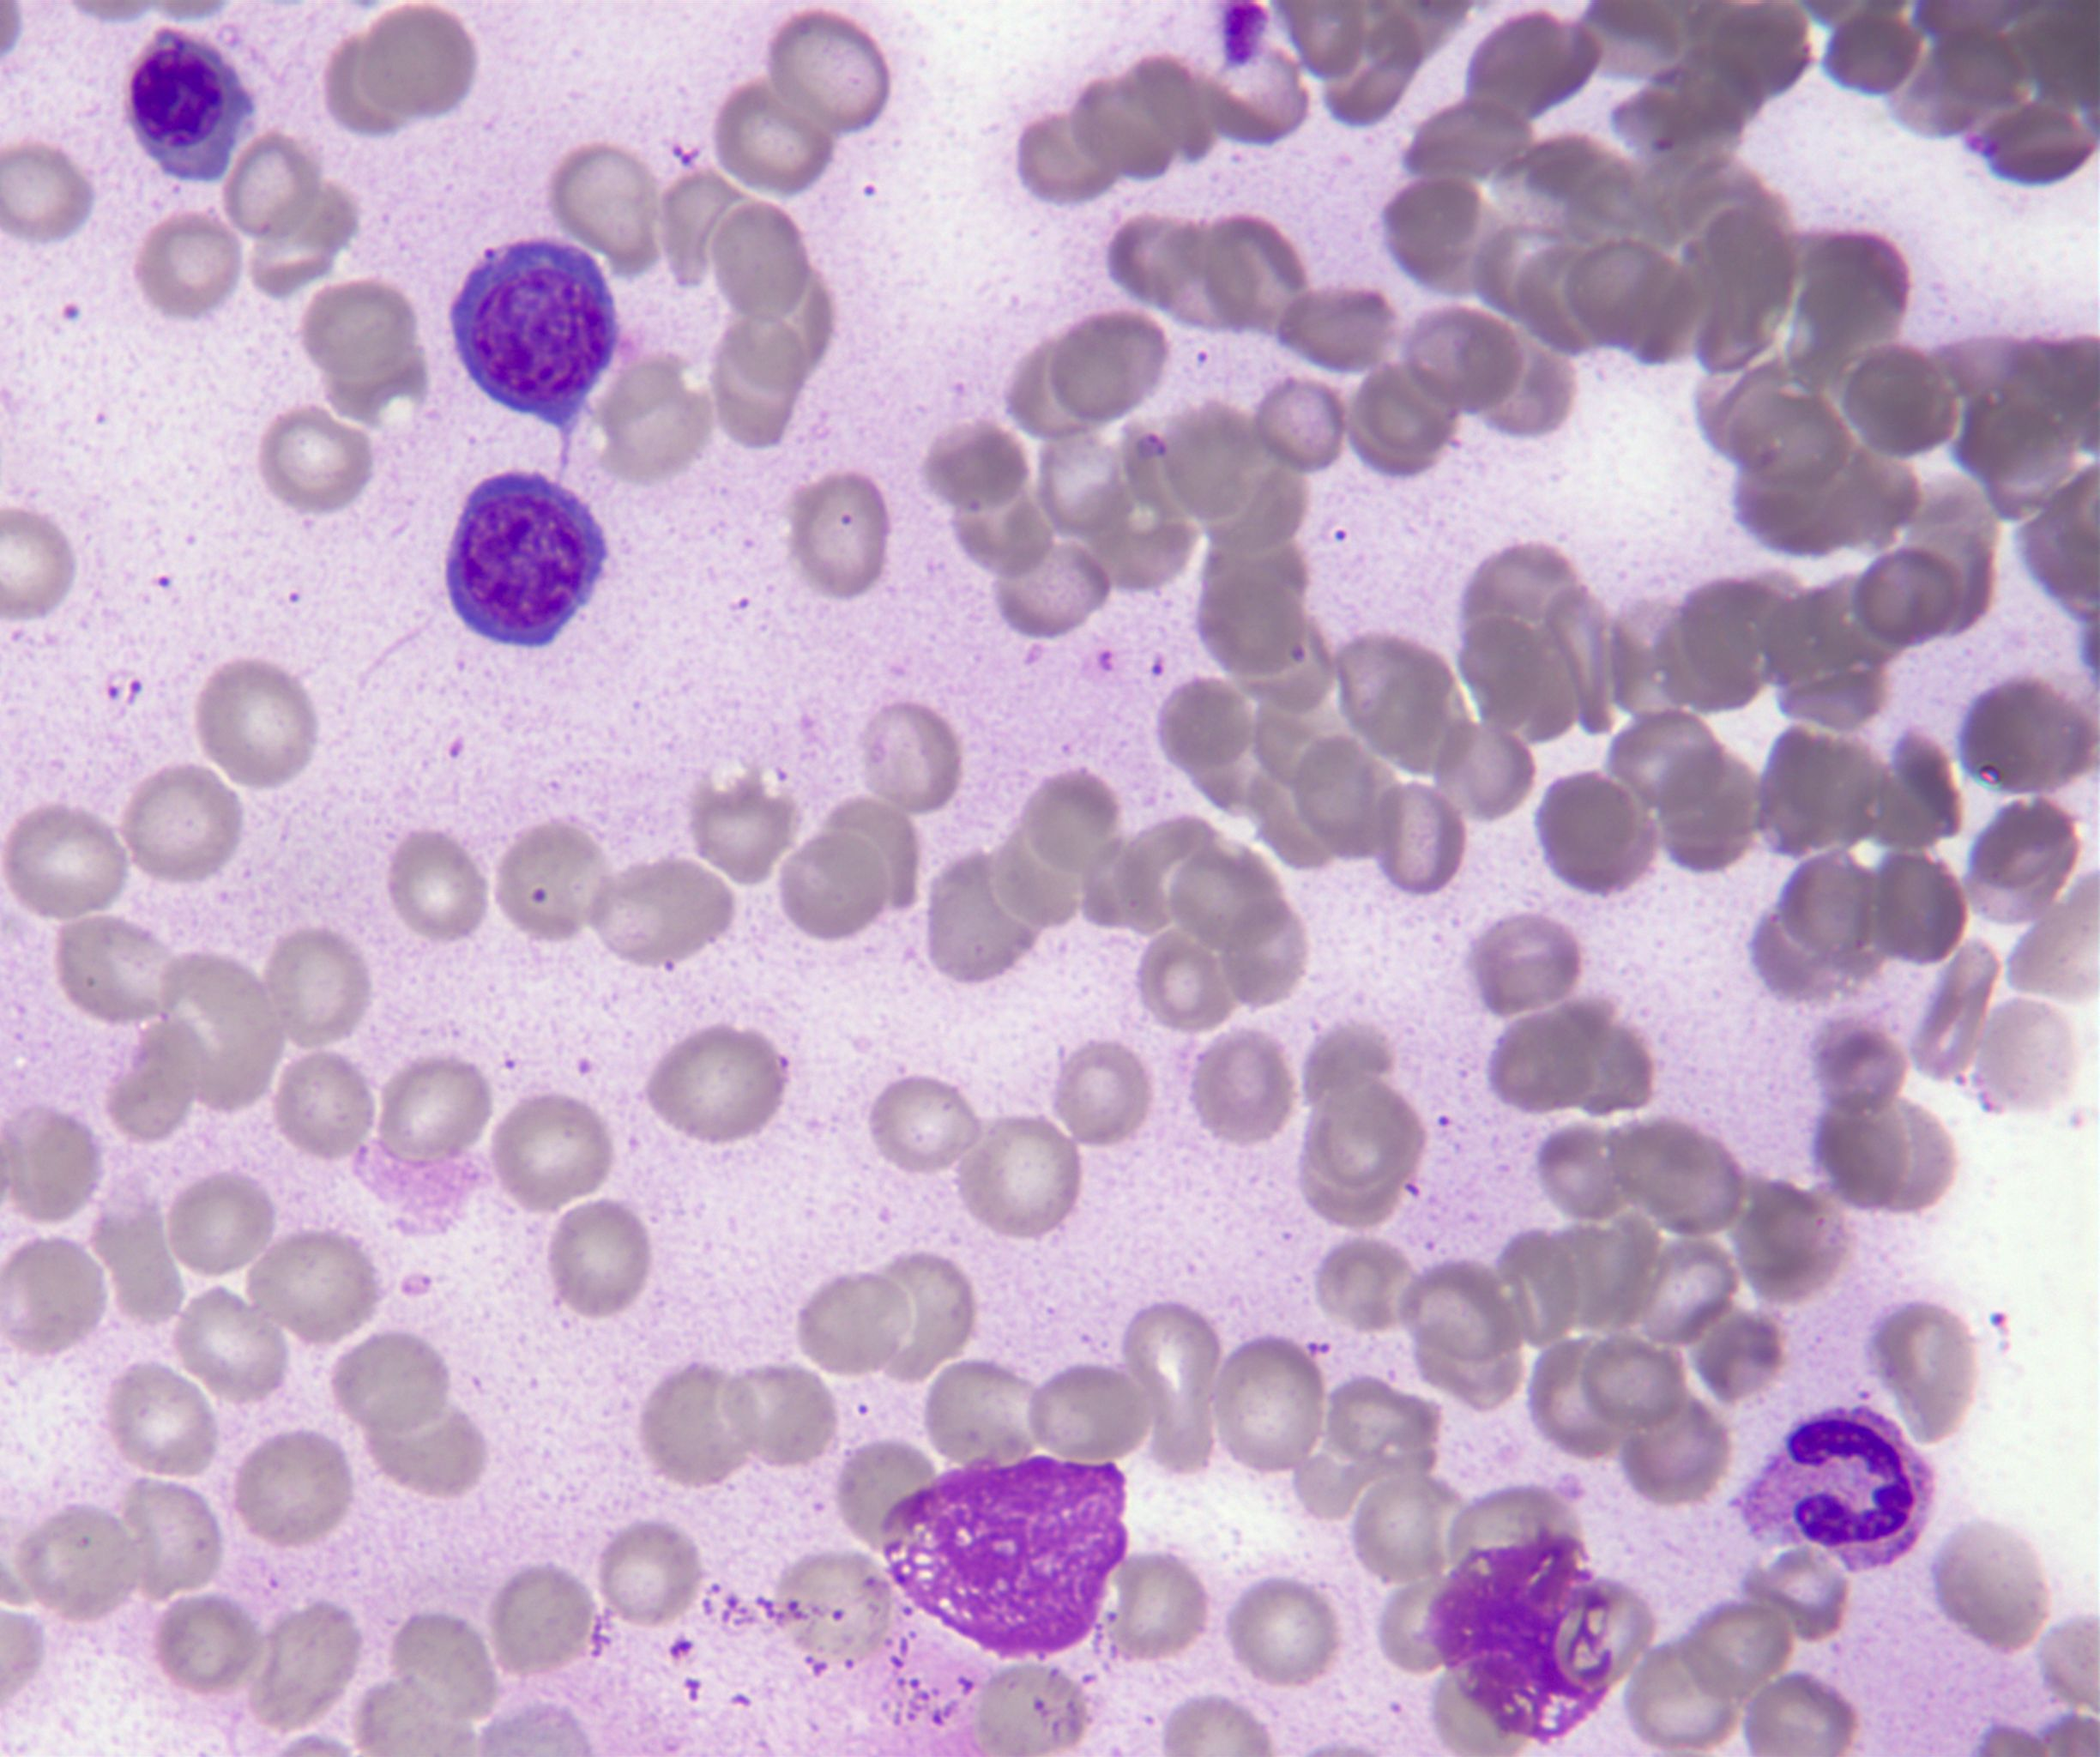23: (450, 243, 617, 426), (448, 469, 605, 646), (126, 24, 251, 183)
5: (1730, 1406, 1933, 1572)
x: (884, 1457, 1130, 1658), (1423, 1537, 1612, 1743)
